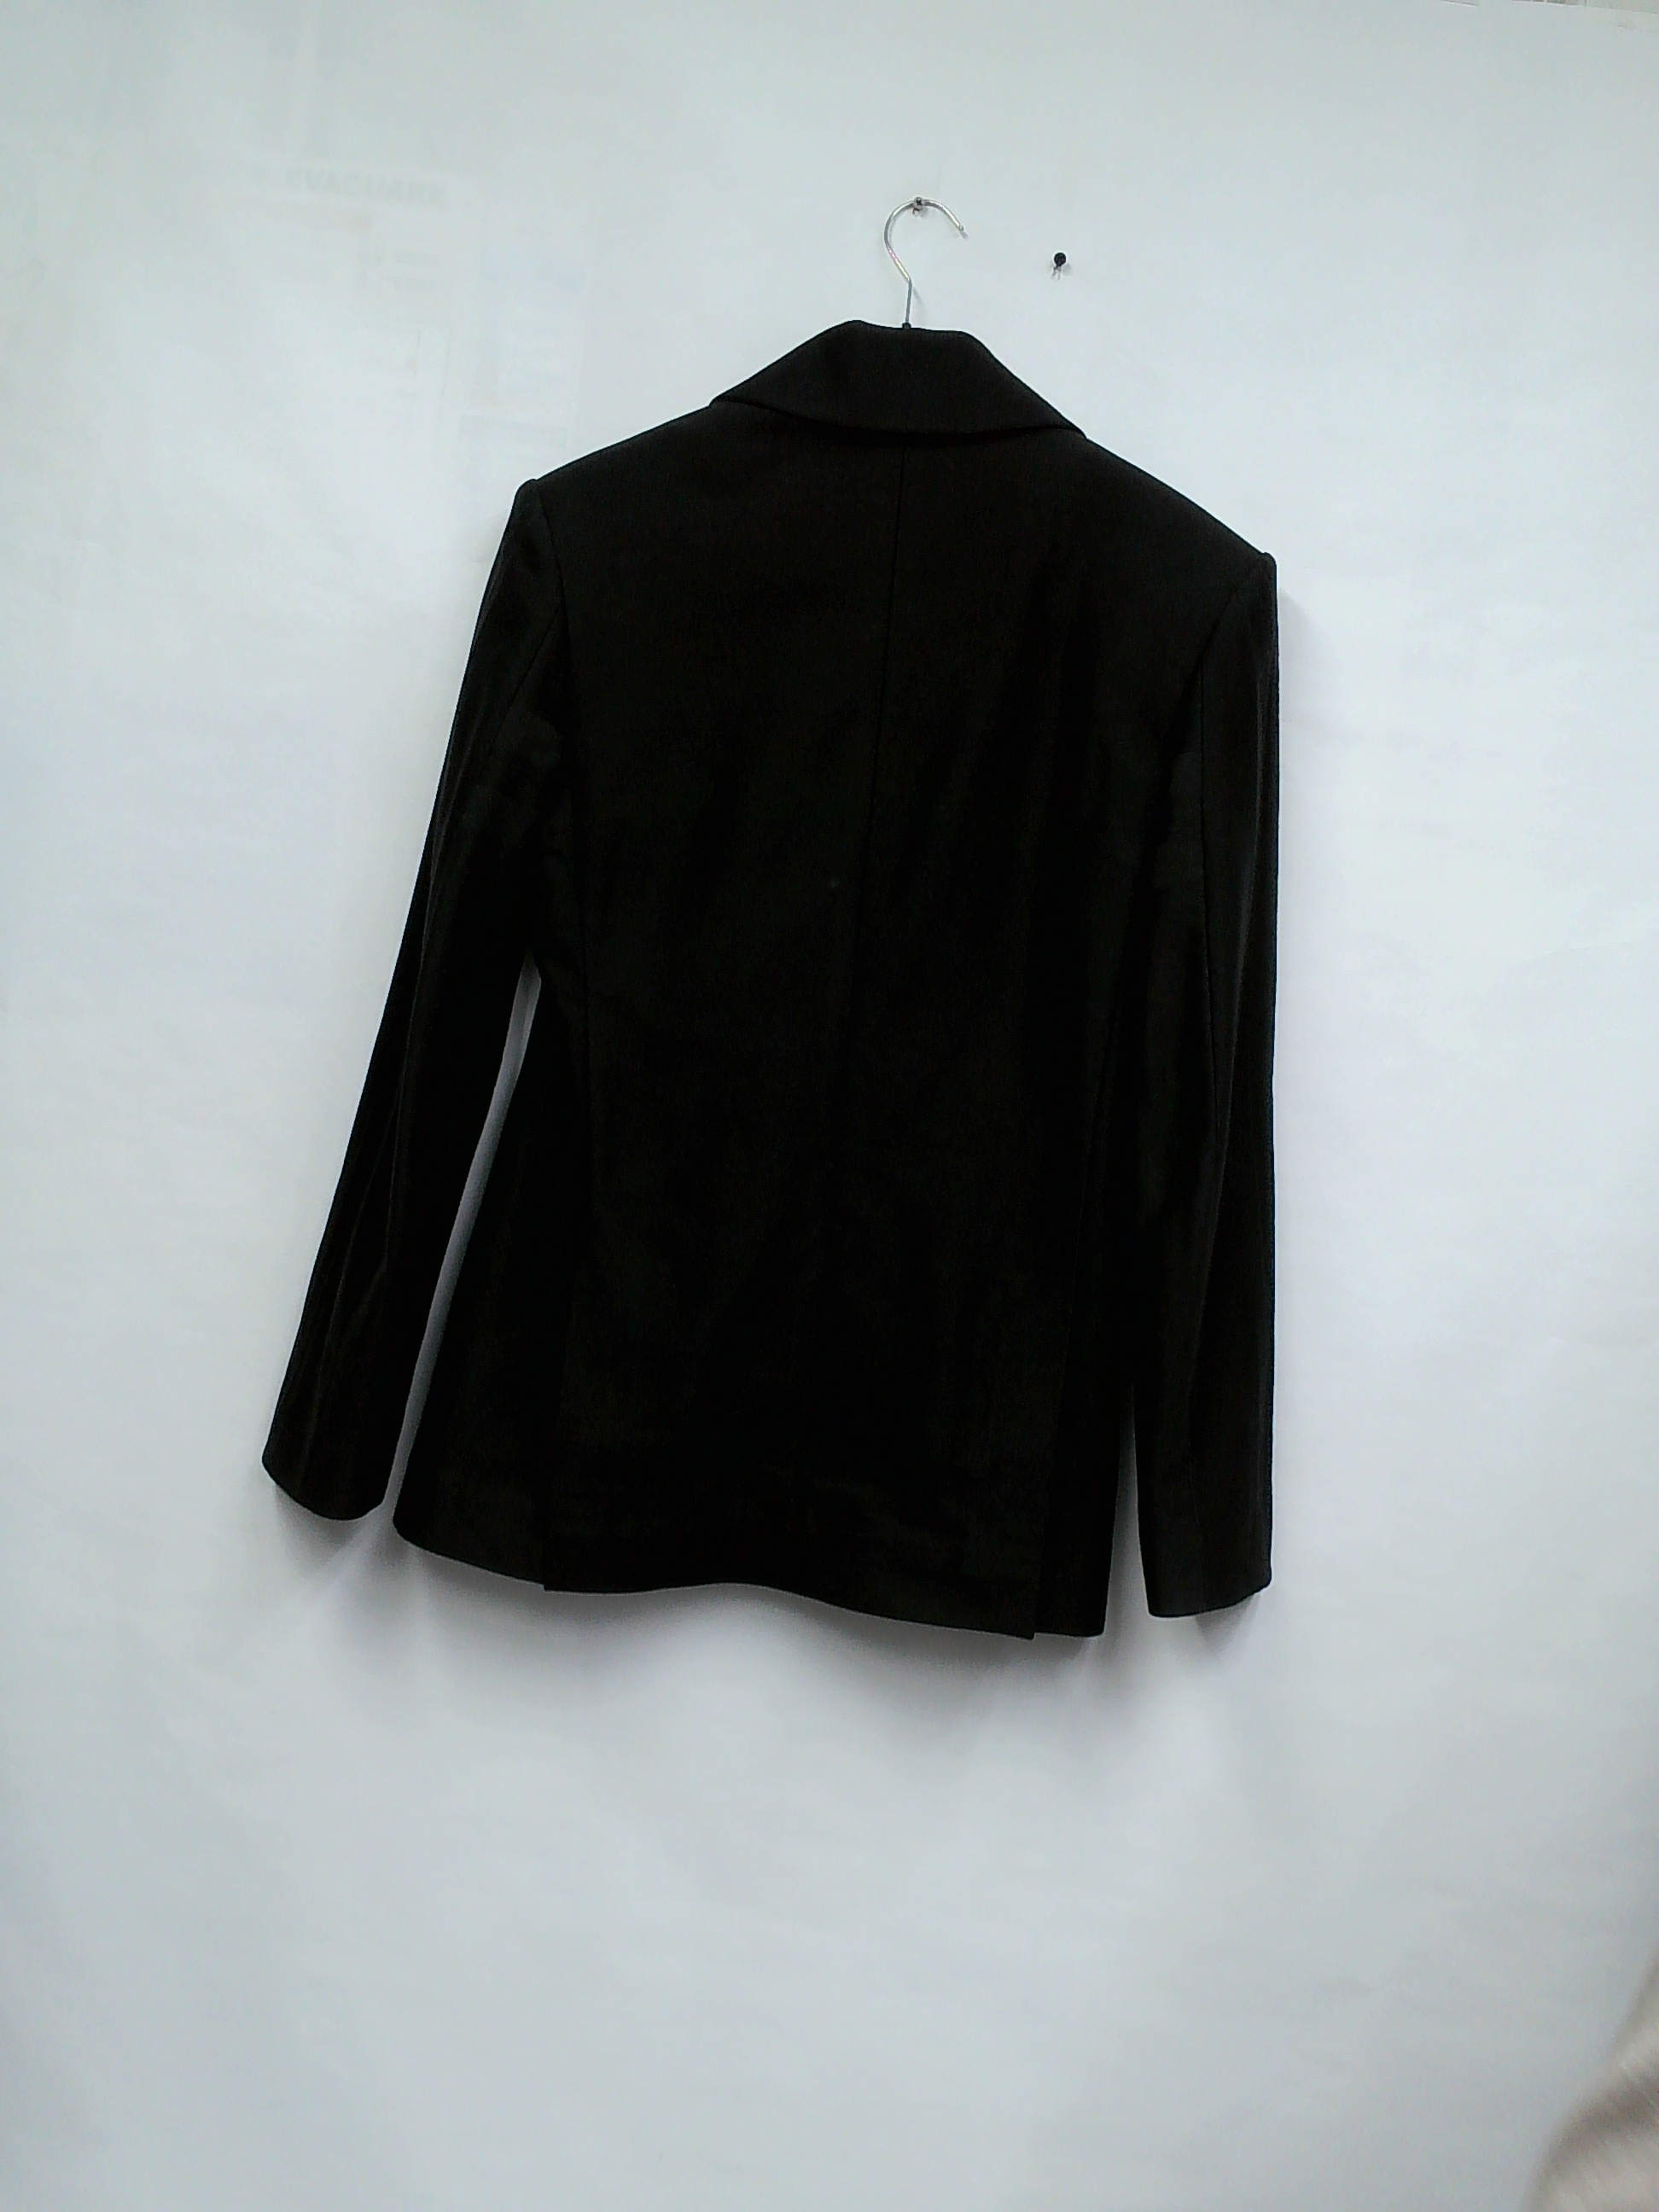seam: (899, 1209, 1136, 1634), (511, 1143, 683, 1561)
